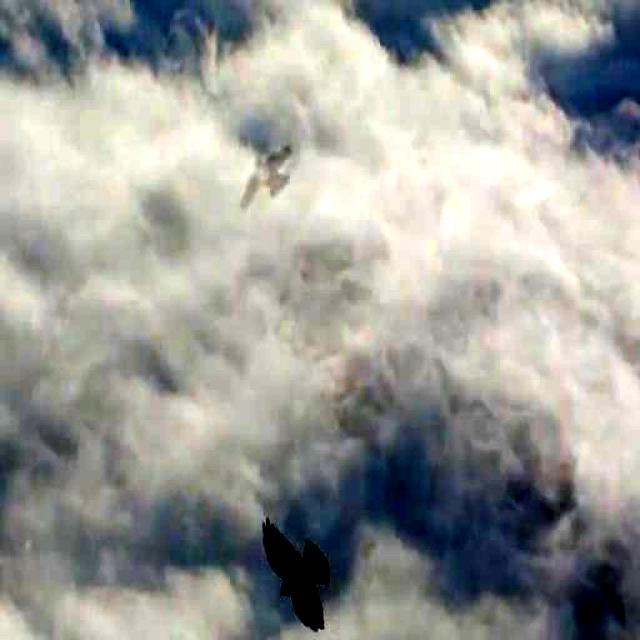airplane: (250, 499, 341, 640)
